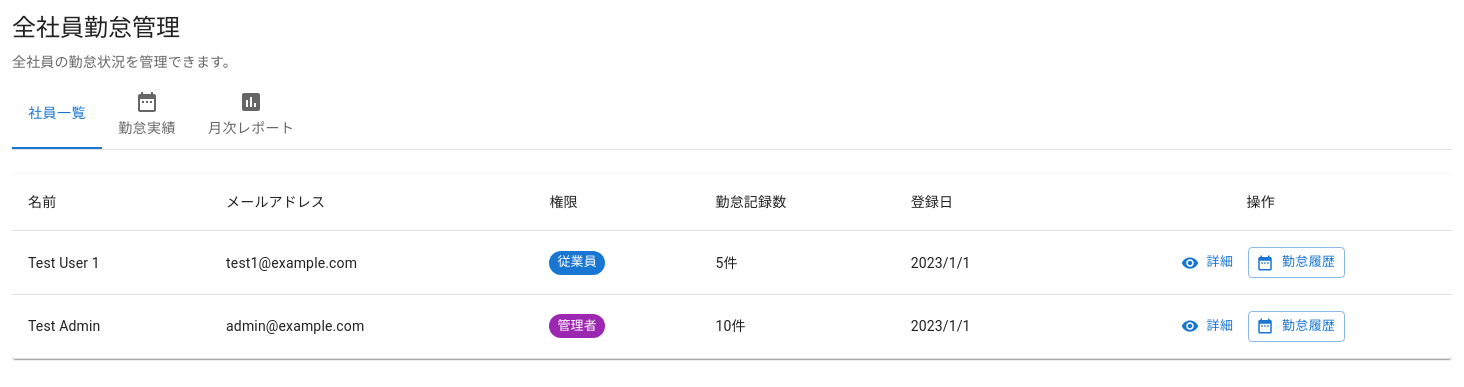
Test: UserList Component › displays attendance records when switching to attendance tab
The width and height of the screenshot is (1464, 387).
Expected: the text "Test User 1" is shown, [12, 231, 210, 295]
Click on attendance tab
Click the tab "勤怠実績": (147, 113) [102, 77, 192, 149]
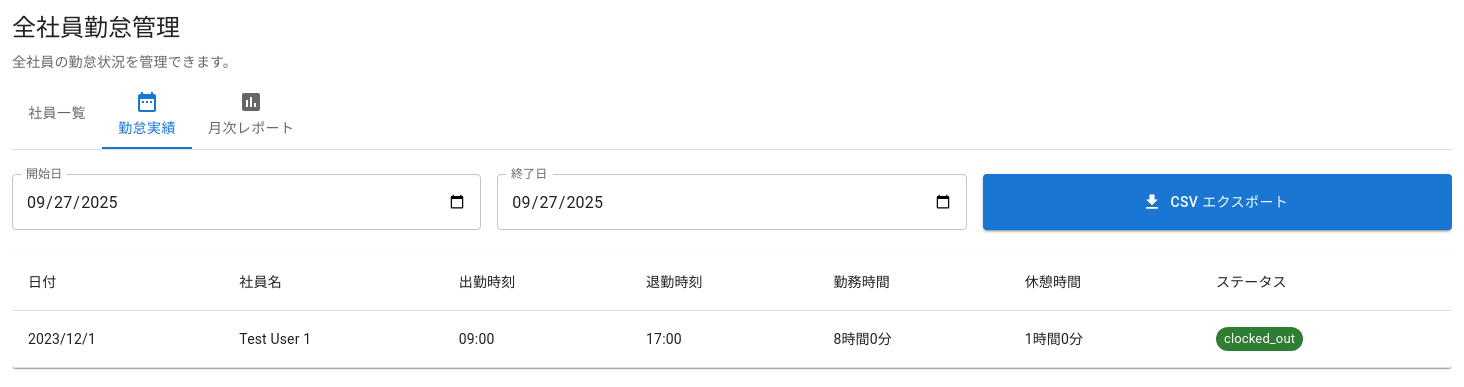
Result: the button "CSV エクスポート" is shown at [983, 174, 1452, 230]
